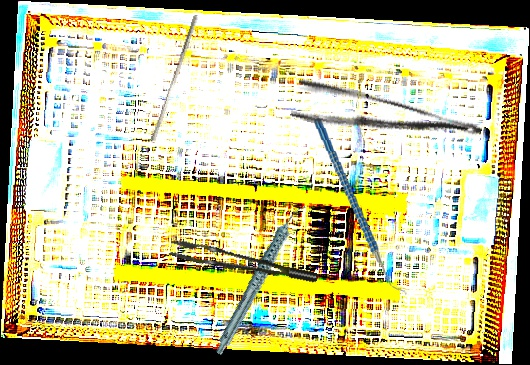Chopper: (313, 111, 408, 303)
Dressing Forceps: (289, 75, 484, 166)
Handpiece: (188, 202, 333, 356)
Pusher: (150, 12, 199, 144)
Tissue Forceps: (167, 225, 319, 303)
